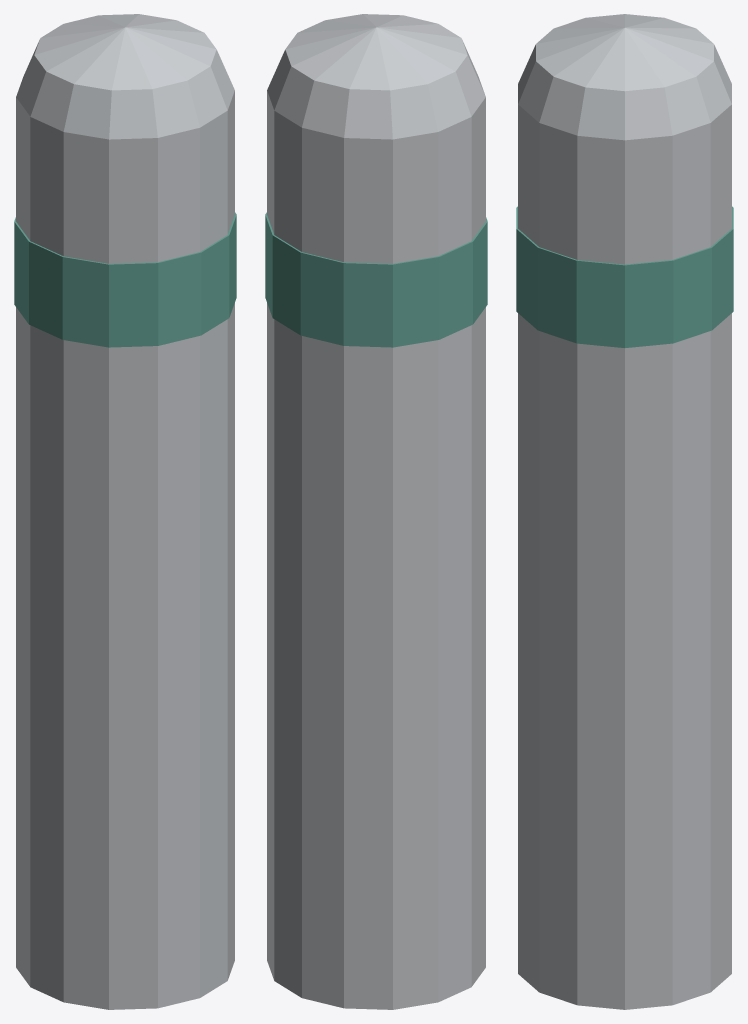
The model's file is bollard.glb.
3 views of the same model, side by side, from view 1: azimuth 30°, elevation 25°; view 2: azimuth 150°, elevation 25°; view 3: azimuth 270°, elevation 25° (orthographic).
Parts seen in each view (by area): view 1: bollard_steel, bollard_trim_g; view 2: bollard_steel, bollard_trim_g; view 3: bollard_steel, bollard_trim_g.
Boxes of the visible parts, <box> form: bollard_steel: <box>16,14,234,1009</box>; bollard_trim_g: <box>14,212,236,347</box>; bollard_steel: <box>267,14,485,1009</box>; bollard_trim_g: <box>265,212,487,347</box>; bollard_steel: <box>518,14,731,1009</box>; bollard_trim_g: <box>516,206,733,347</box>.
Bounding box in the file's own units: 0.244 × 1.13 × 0.2379.
